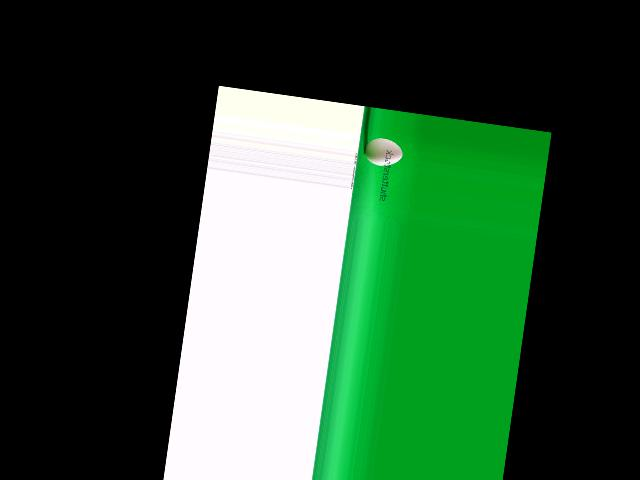egg: (362, 135, 404, 168)
